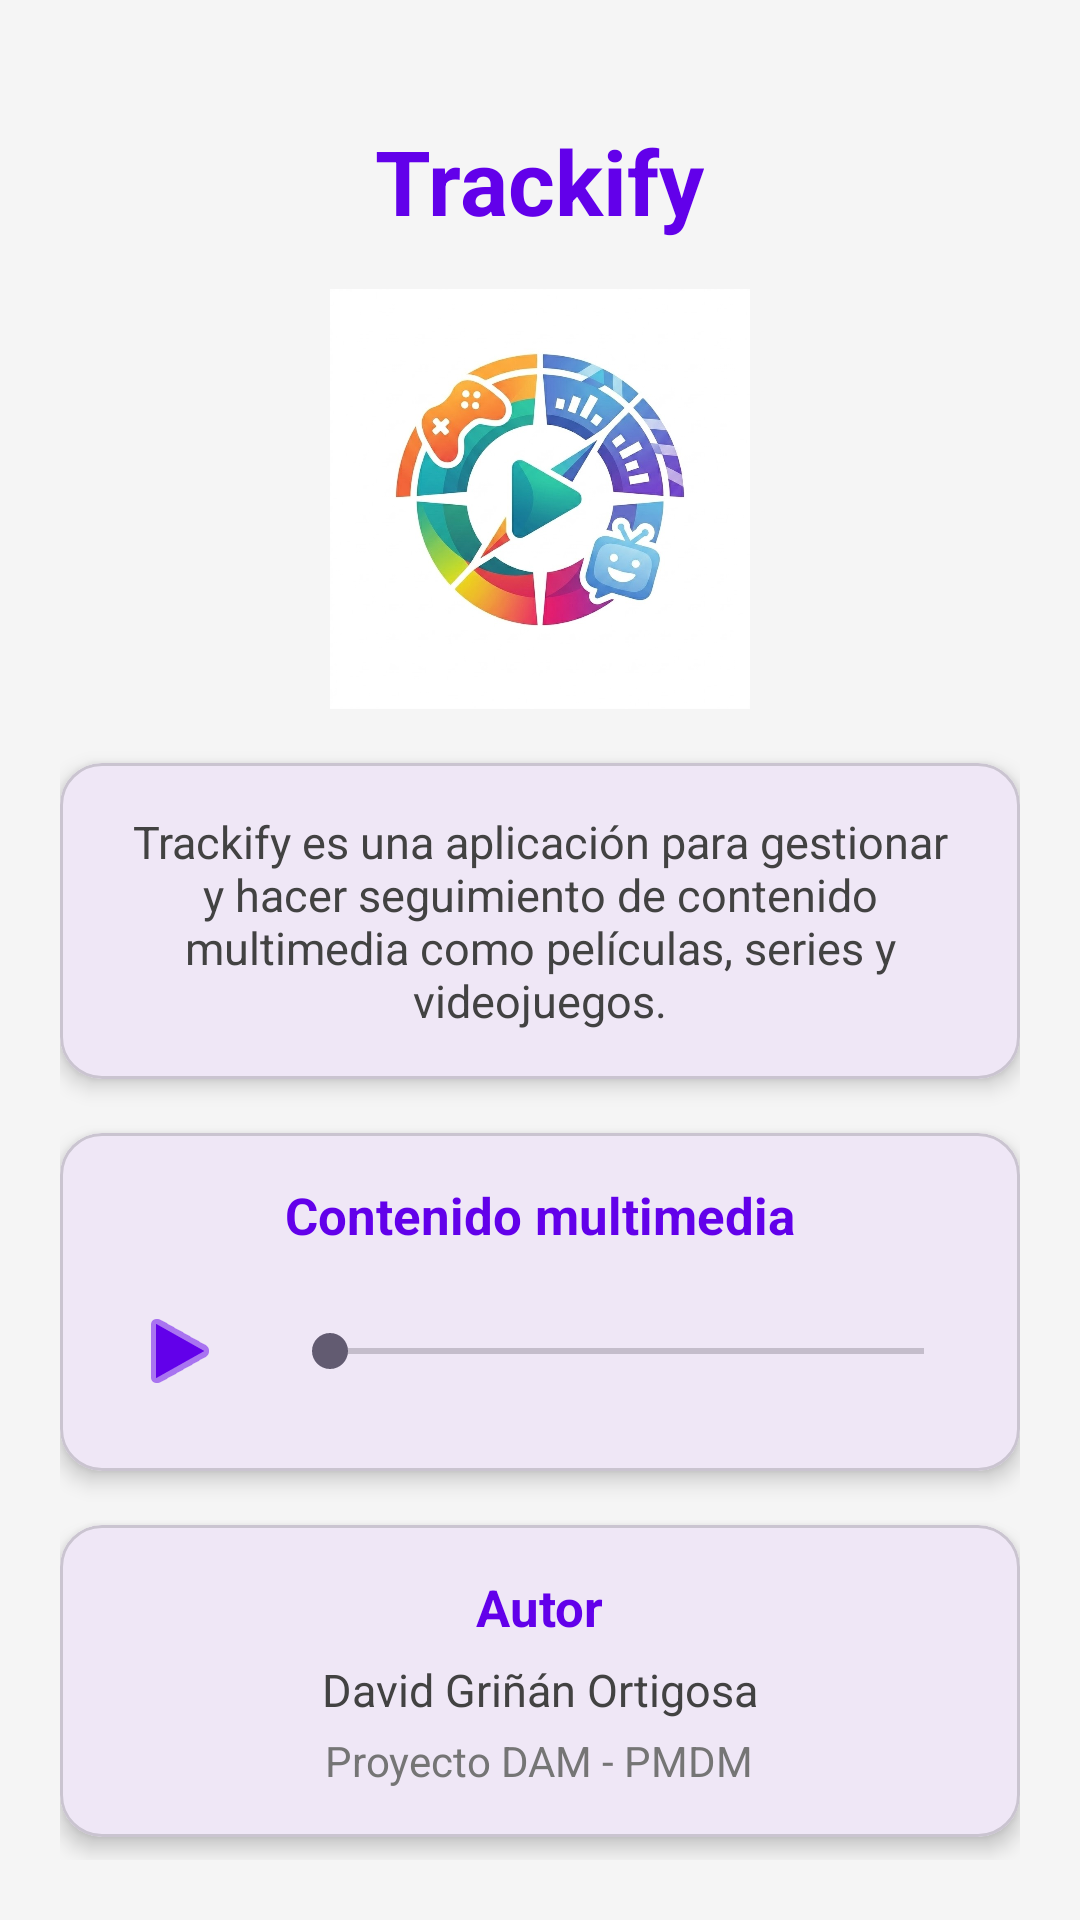

Point at icon controls on the screen. Image size 1080px x 1920px, points as point (x, y).
play: point (180, 1351)
